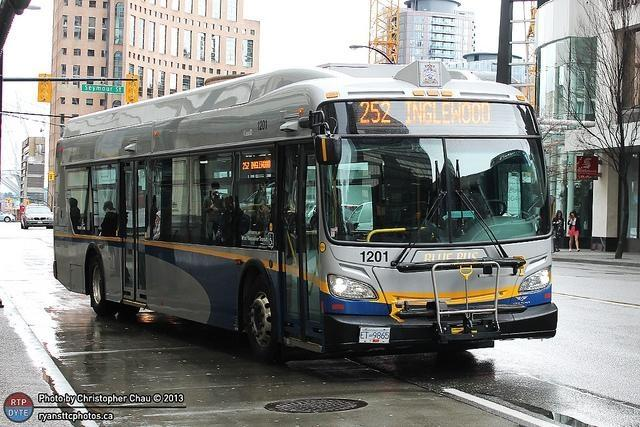bus: (50, 57, 558, 360)
car: (20, 204, 54, 230), (1, 212, 16, 222)
